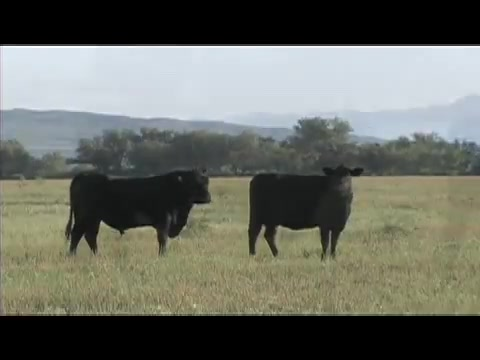cow: (66, 166, 213, 258), (249, 166, 368, 262)
